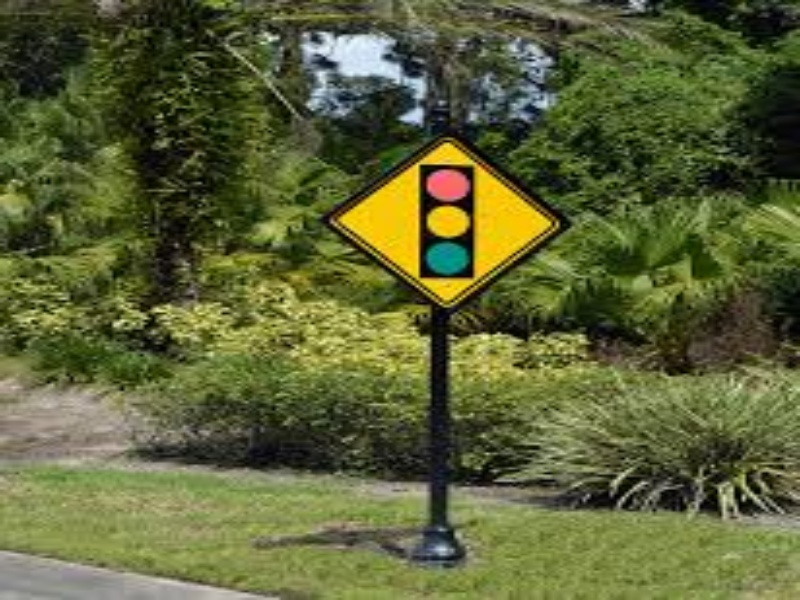traffic signal sign: (319, 131, 575, 317)
